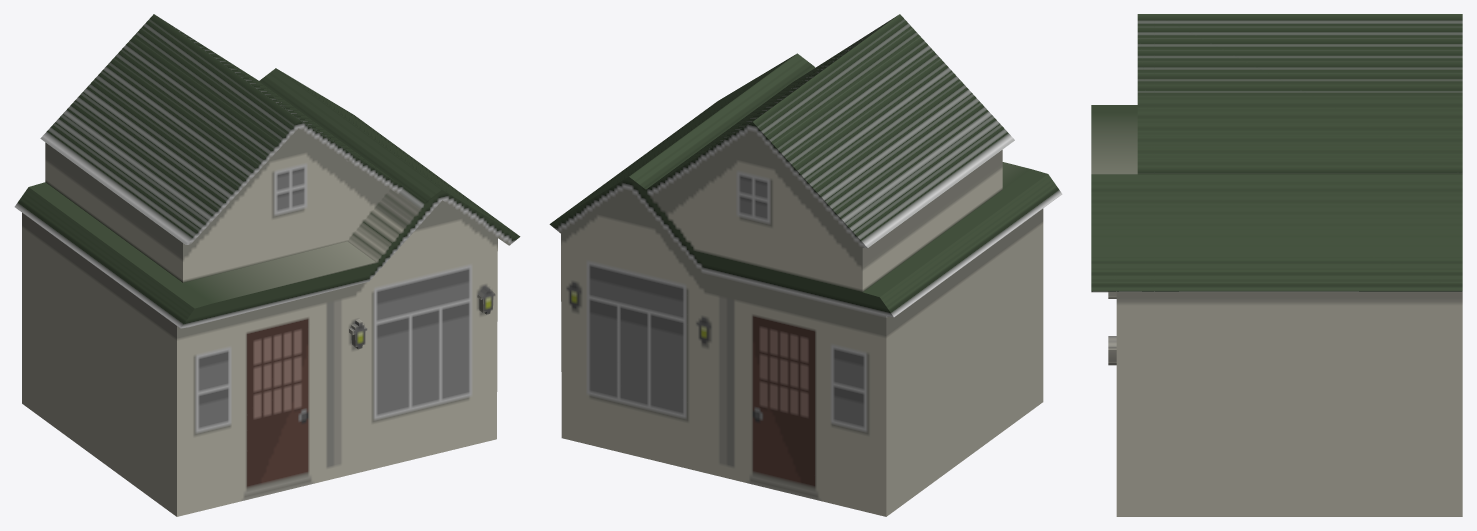
The model's file is RandomHouse2.fbx.
3 renders of one model, left to right at view 1: azimuth 30°, elevation 25°; view 2: azimuth 150°, elevation 25°; view 3: azimuth 270°, elevation 25°, orthographic. The views are drawn at different scales.
Visible parts, largest first — view 1: Plane.007; view 2: Plane.007; view 3: Plane.007.
Part boxes in pixels (x1,y1,x2,y2): Plane.007: (14, 14, 520, 516); Plane.007: (549, 14, 1062, 516); Plane.007: (1091, 14, 1462, 516).
Bounding box in the file's own units: 3444 × 3466 × 2916.
Materials: 1 (1 with a texture image).
